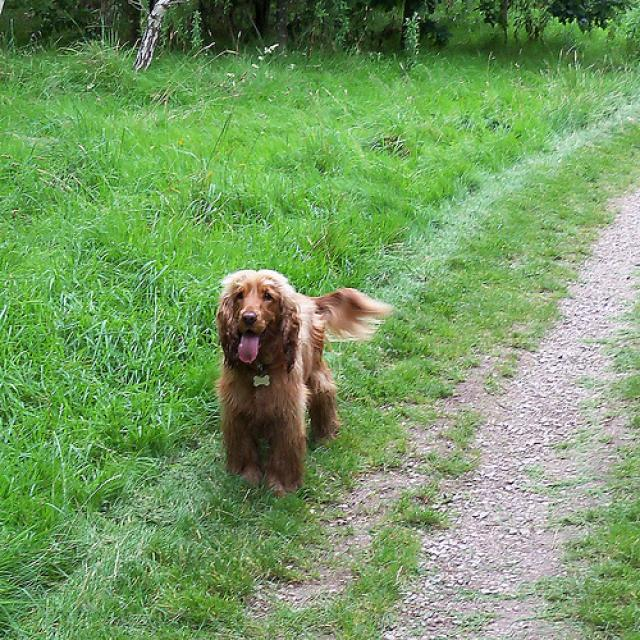dog-english_cocker_spaniel: (209, 260, 401, 506)
